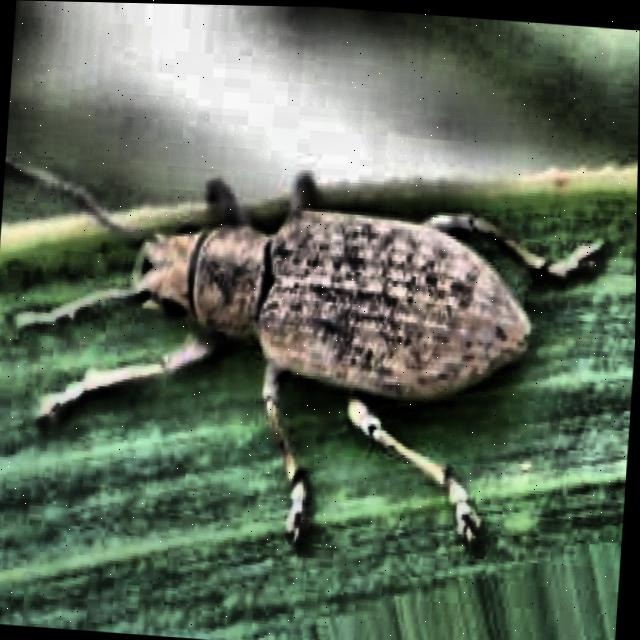Stink bug: (46, 79, 592, 524)
